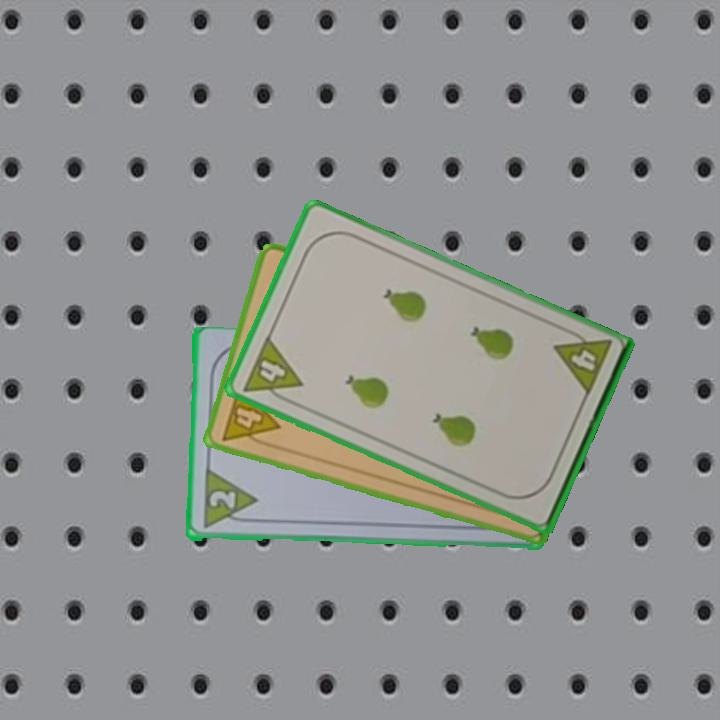2p: (205, 487, 238, 513)
4p: (238, 332, 305, 409), (550, 324, 615, 400), (218, 379, 283, 452)
